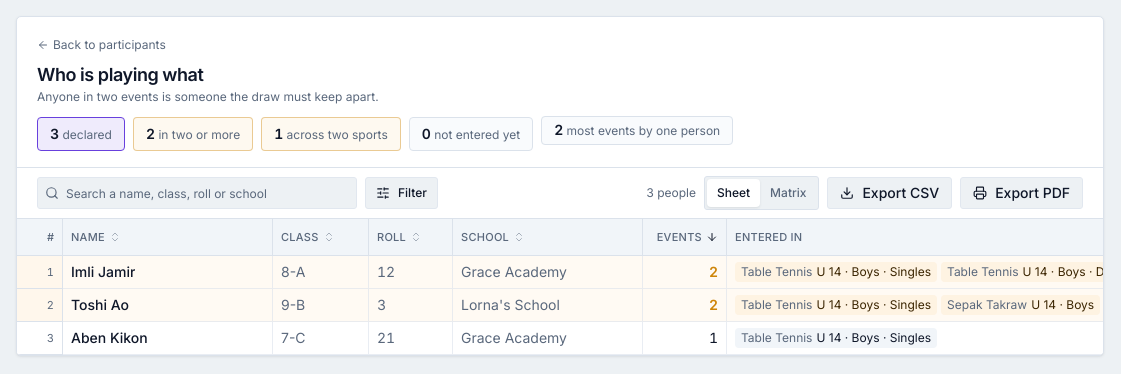
ParticipationPage › clears back to the whole list
The image size is (1121, 374).
Click the button with test id "stat-multi": (193, 134) [133,117,253,151]
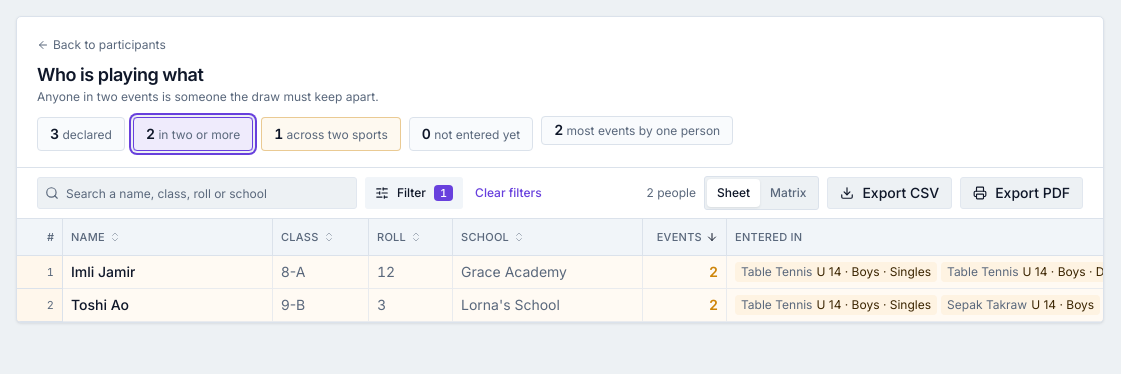
expect the row with test id "participation-m3" is gone: met
Click the button with test id "participation-clear": (508, 193) [471,185,546,201]
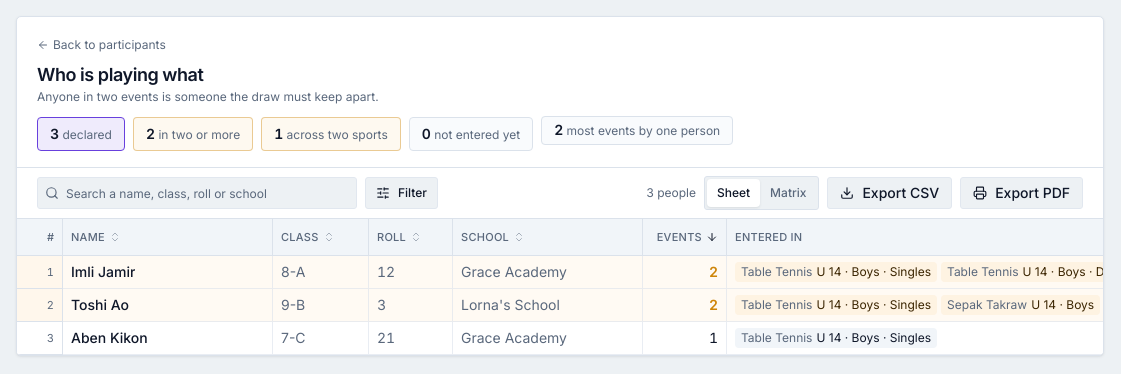
expect the row with test id "participation-m3" is shown: met, box [17,322,1103,355]
